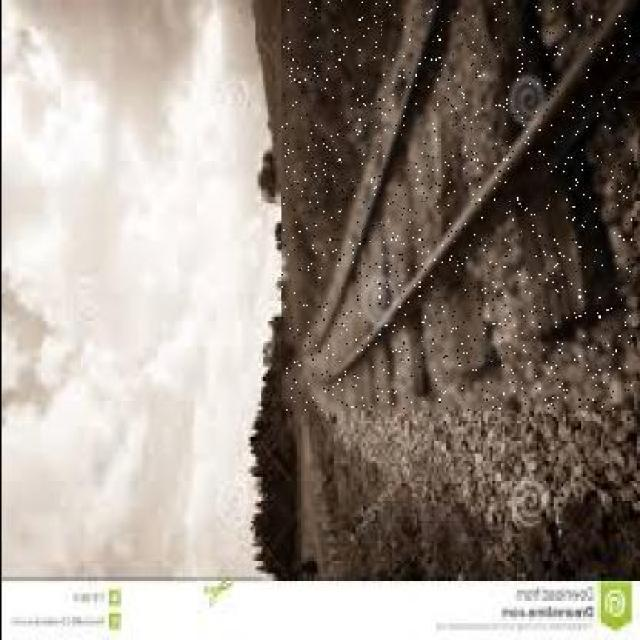rail: (282, 1, 632, 412)
